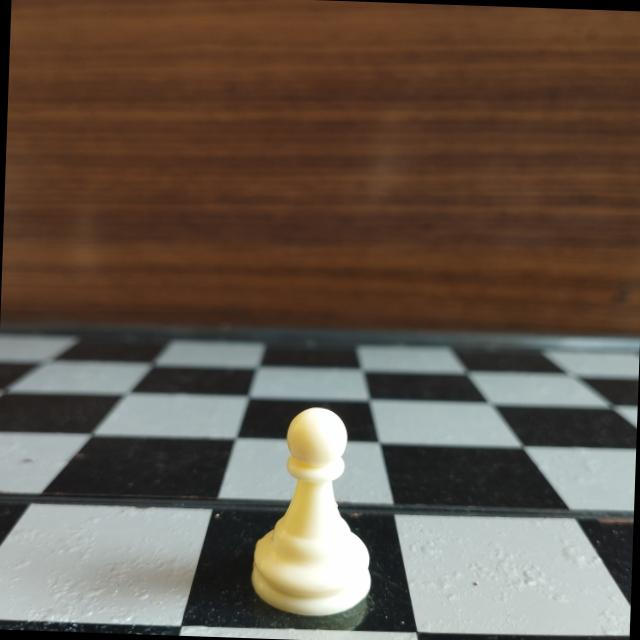White Pawn: (244, 400, 382, 622)
